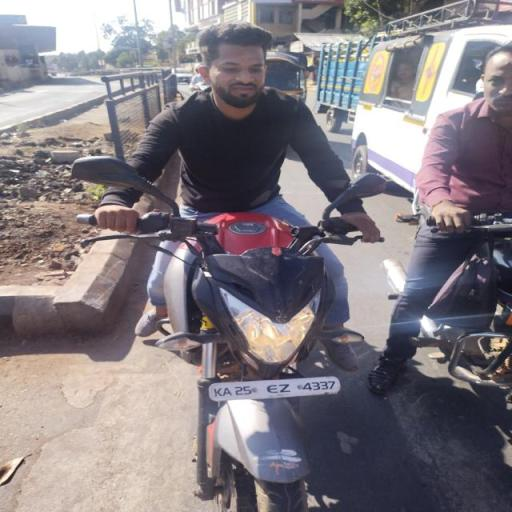bike: (65, 18, 393, 512)
numberplate: (206, 366, 344, 404)
withouthelmet: (202, 24, 274, 106)
